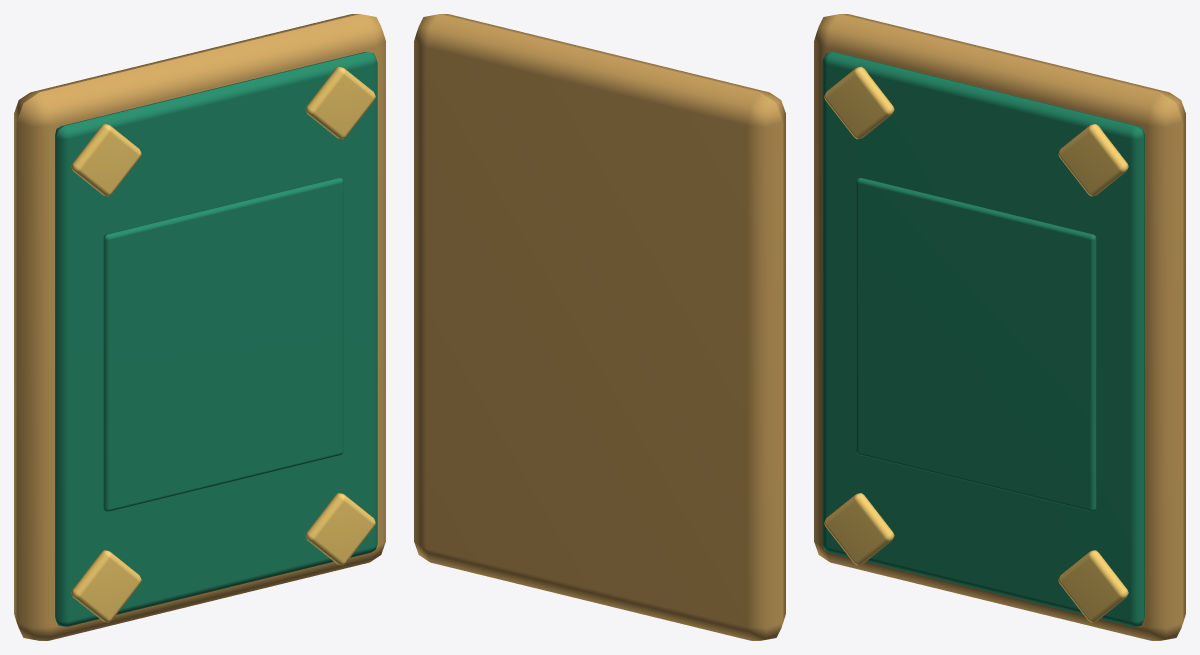
The model's file is multiplier-plaque.glb.
The picture shows the model from 3 angles, left to right: view 1: azimuth 30°, elevation 25°; view 2: azimuth 150°, elevation 25°; view 3: azimuth 330°, elevation 25°; orthographic projection.
Visible parts, largest first — view 1: Plaque emerald face, Text mounting face, Plaque gold body, Corner ornament.003, Corner ornament.002, Corner ornament.001, Corner ornament; view 2: Plaque gold body; view 3: Plaque emerald face, Text mounting face, Plaque gold body, Corner ornament.002, Corner ornament.003, Corner ornament, Corner ornament.001.
Boxes of the visible parts, x1,y1,x2,y2 form: Plaque emerald face: (55, 52, 377, 626); Text mounting face: (103, 178, 343, 511); Plaque gold body: (14, 14, 385, 640); Corner ornament.003: (305, 66, 375, 139); Corner ornament.002: (71, 124, 141, 196); Corner ornament.001: (305, 493, 375, 565); Corner ornament: (71, 550, 141, 622); Plaque gold body: (414, 14, 785, 640); Plaque emerald face: (822, 52, 1144, 626); Text mounting face: (856, 178, 1096, 511); Plaque gold body: (814, 14, 1185, 640); Corner ornament.002: (824, 66, 894, 139); Corner ornament.003: (1058, 124, 1128, 196); Corner ornament: (824, 493, 894, 565); Corner ornament.001: (1058, 550, 1128, 622).
Size of the model in its own units: 0.72 by 1.03 by 0.1375.
